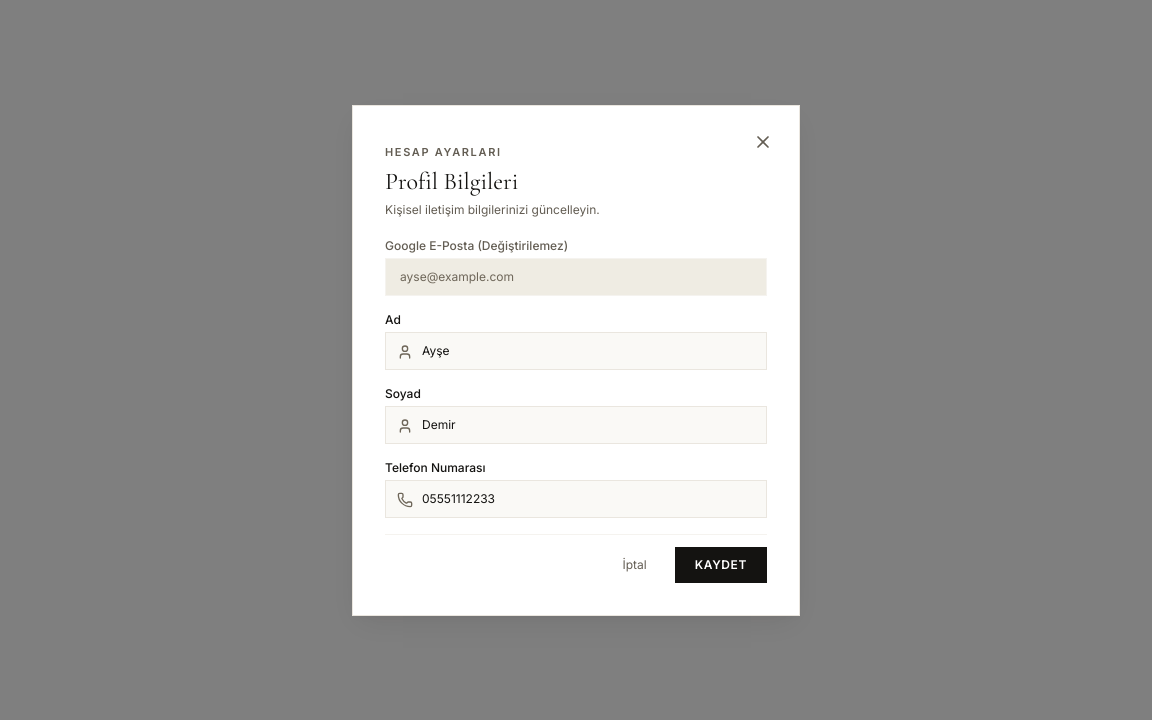
Test: Customer Profile & Address Modals › ProfileEditModal Error Handling › renders error message when profile save fails
Click the button "Kaydet" at {"x": 721, "y": 564}, box top-left (675, 546), bottom-right (767, 582)
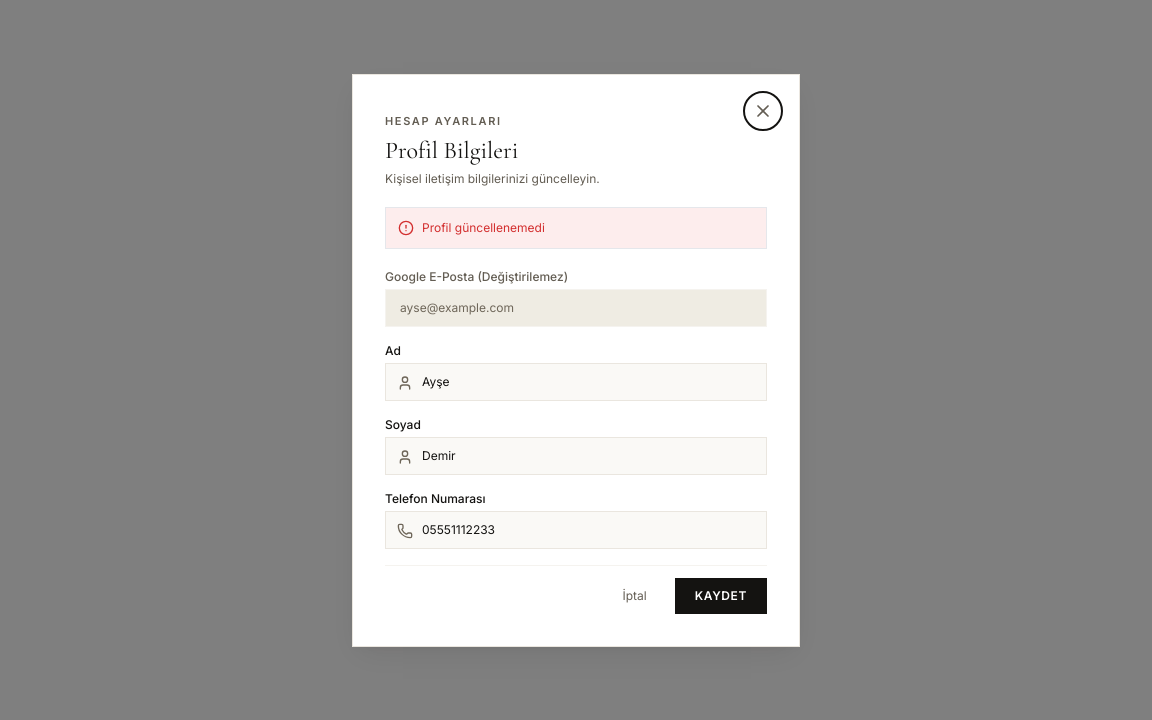
expect the text "Profil güncellenemedi" is shown: met, box top-left (422, 220), bottom-right (545, 236)
